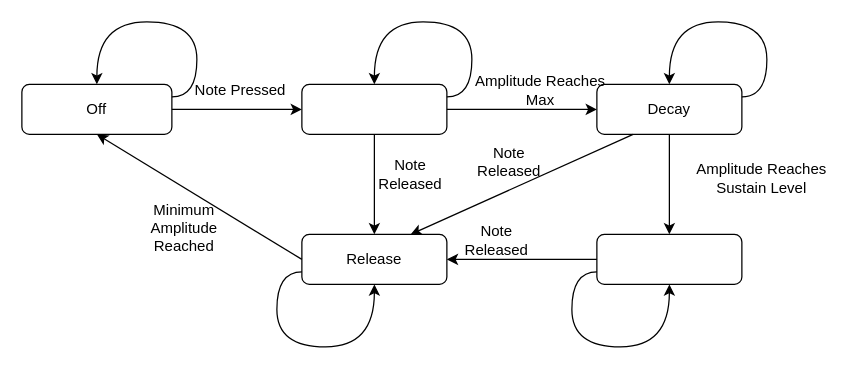
Some shapes in this 861 by 369 pixel diagram are drawn without their labels. Each missing label, with the centre of its shape:
Attack: (374,108)
Sustain: (669,258)
